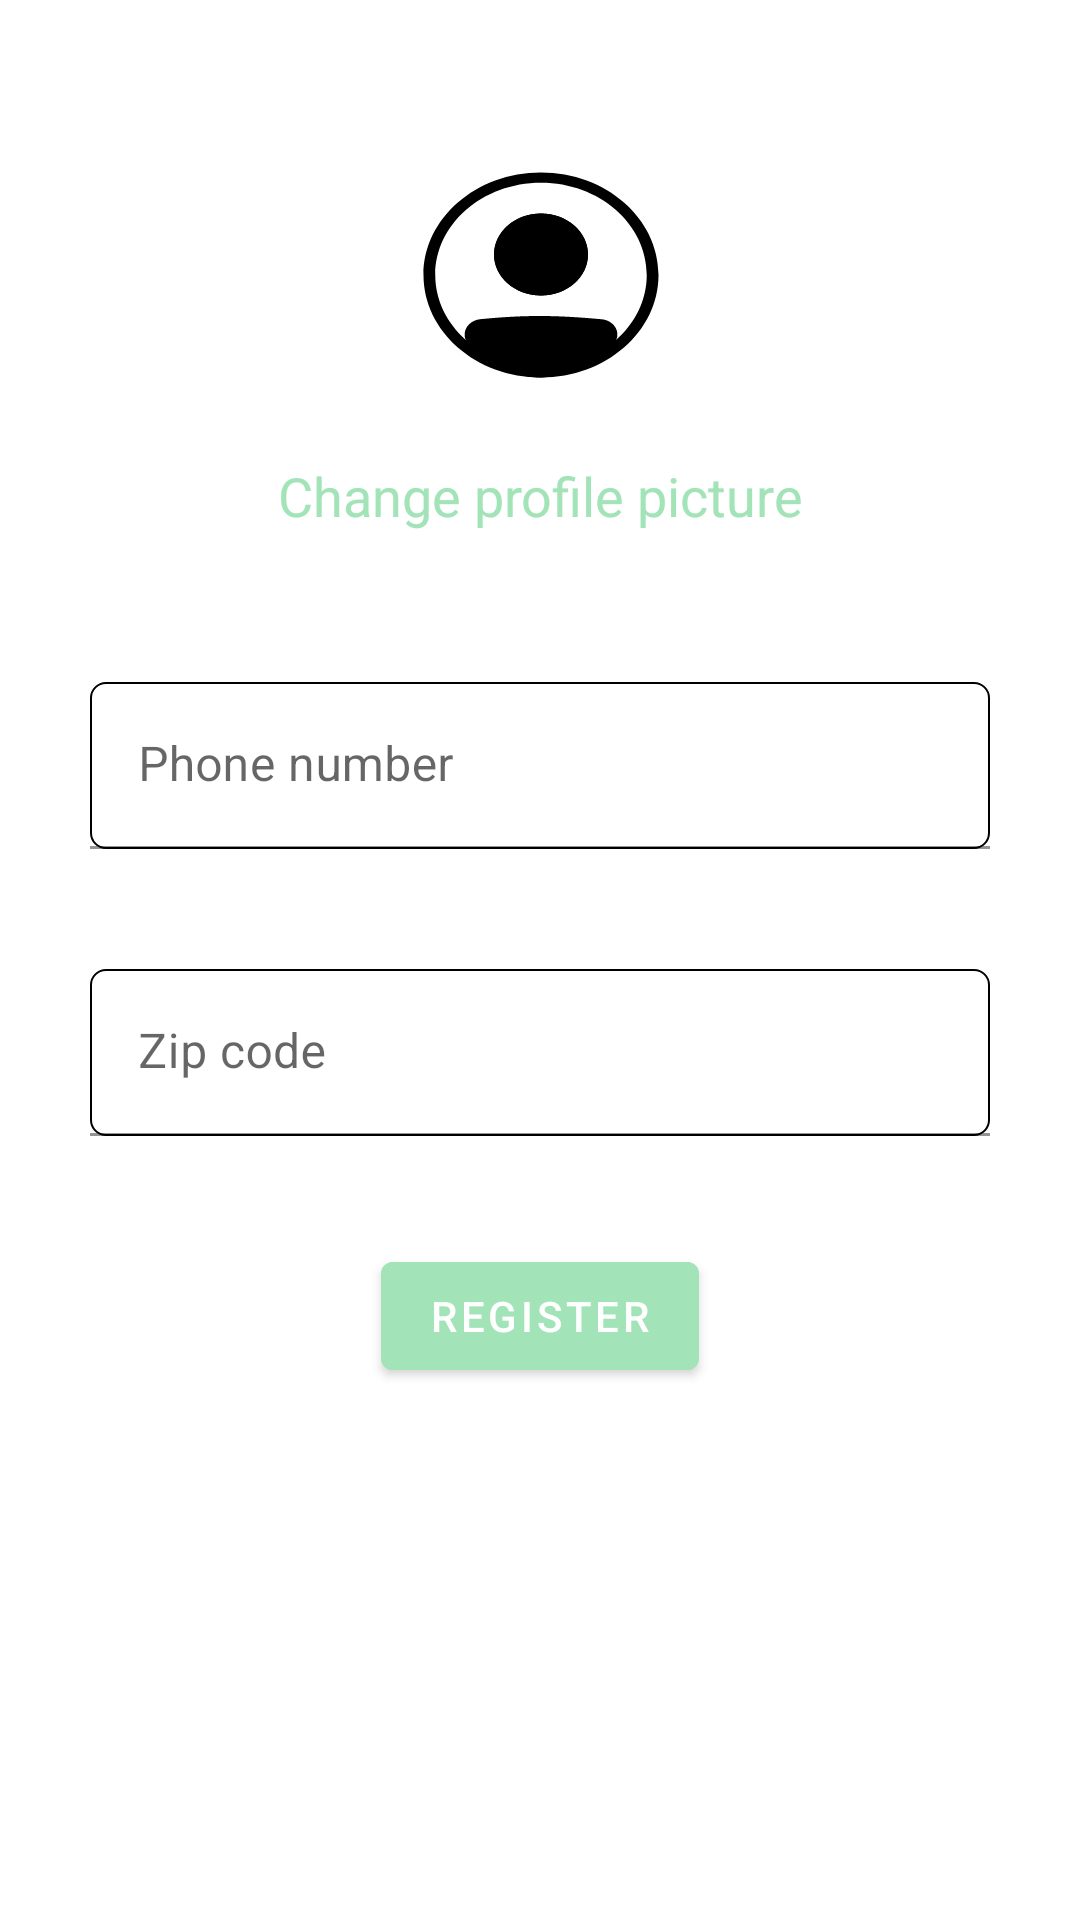

Point at icon controls on the screen. Image size 1080×1920, points as point (x, y).
registration user: point (541, 275)
